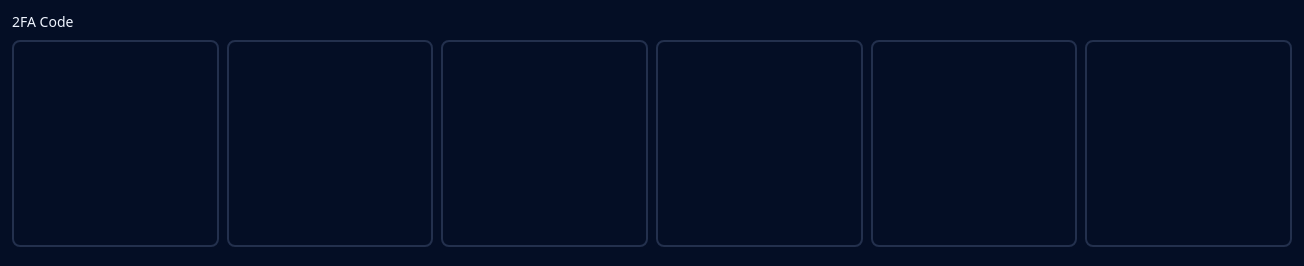
Test: TwoFactorInput Component › Edge Cases › should handle rapid typing correctly
The image size is (1304, 266).
Click the field named "Digit 1 of 6": point(115, 143) top-left (12, 40), bottom-right (219, 247)
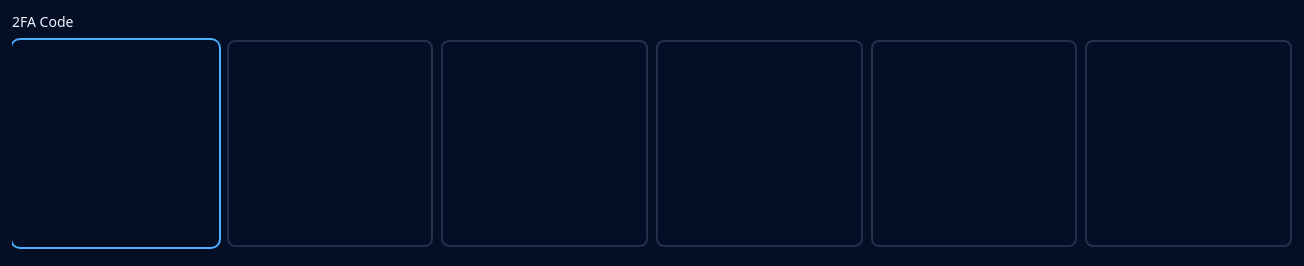
Type keys "999999"
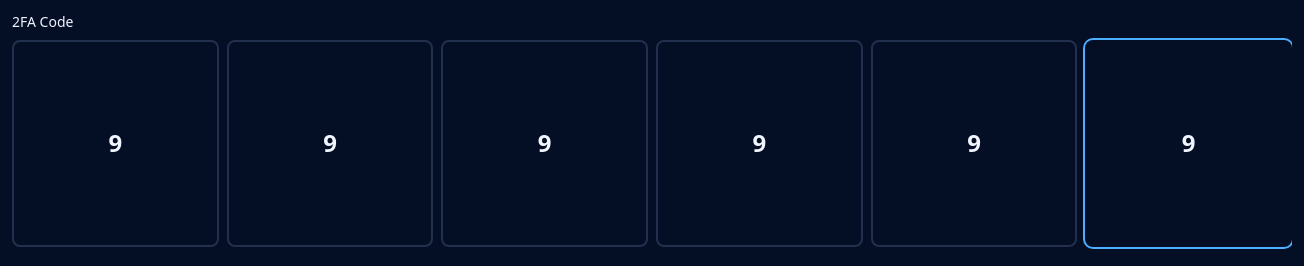
Result: the field named "Digit 1 of 6" holds "9" at top-left (12, 40), bottom-right (219, 247)
Result: the field named "Digit 2 of 6" holds "9" at top-left (227, 40), bottom-right (433, 247)
Result: the field named "Digit 3 of 6" holds "9" at top-left (441, 40), bottom-right (648, 247)
